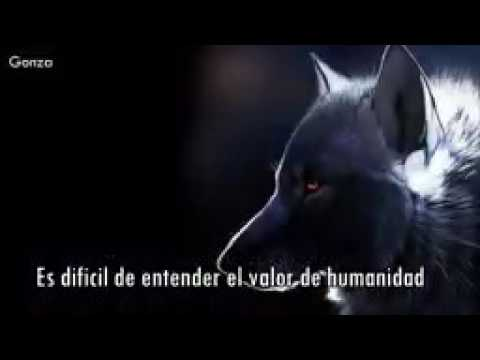Lobo: (210, 45, 478, 302)
